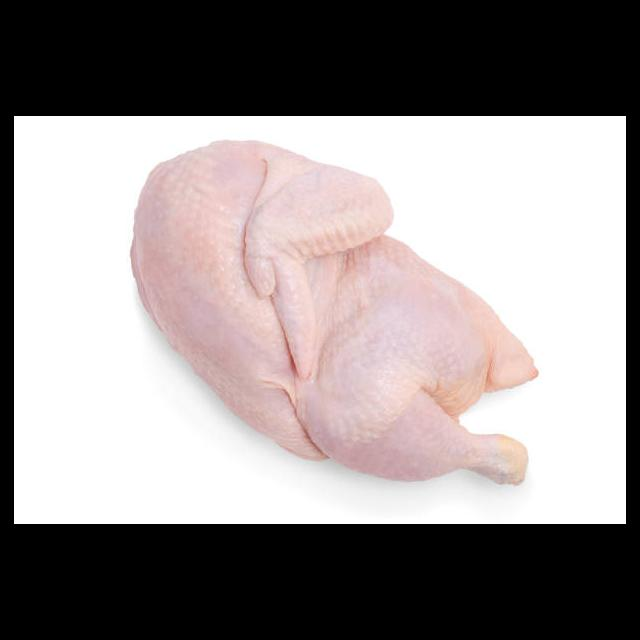chicken: (127, 137, 539, 486)
